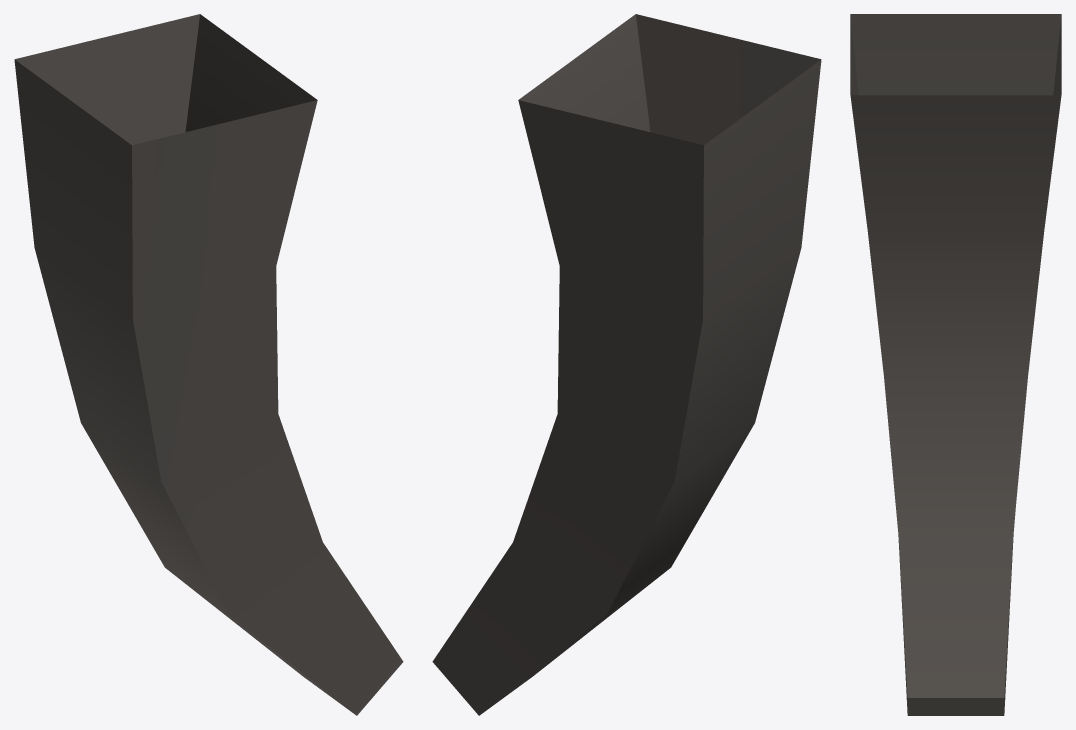
Rendered from SMG12_Trigger.fbx.
3 renders of one model, left to right at view 1: azimuth 30°, elevation 25°; view 2: azimuth 150°, elevation 25°; view 3: azimuth 270°, elevation 25°, orthographic. The views are drawn at different scales.
Parts seen in each view (by area): view 1: SMG12_Trigger; view 2: SMG12_Trigger; view 3: SMG12_Trigger.
Part boxes in pixels (box(x1,y1,x2,y2)): SMG12_Trigger: box(14, 14, 403, 715); SMG12_Trigger: box(432, 14, 821, 715); SMG12_Trigger: box(850, 14, 1061, 715).
Bounding box in the file's own units: 1.88 × 3.89 × 1.26.
